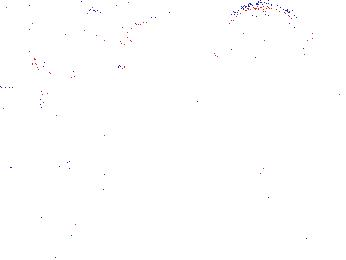moon jellyfish: (28, 10, 135, 79), (210, 4, 315, 62), (1, 24, 55, 91), (113, 20, 191, 63)
